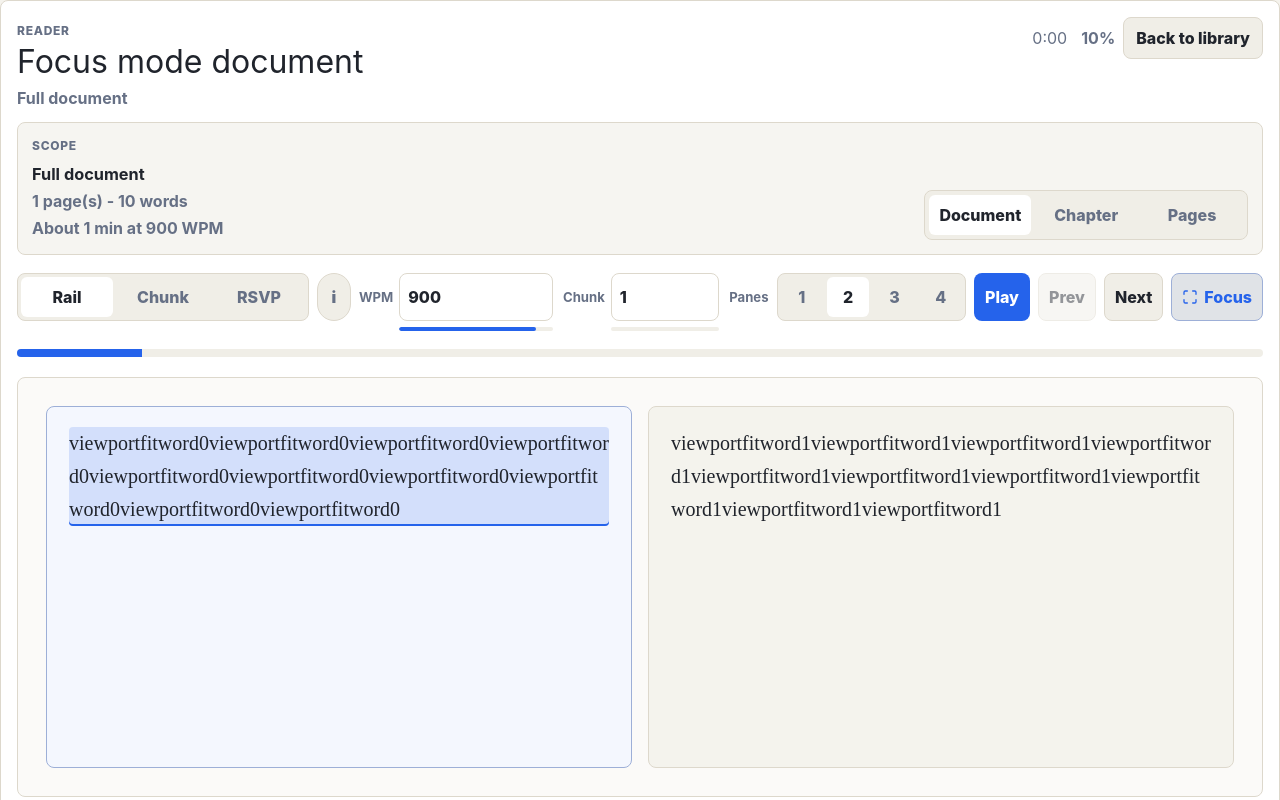
it: ReaderRail focus mode › keeps compact focus layout hooks and reader controls available
Click the button "Focus" at (1217, 297), box [1171,273,1263,321]
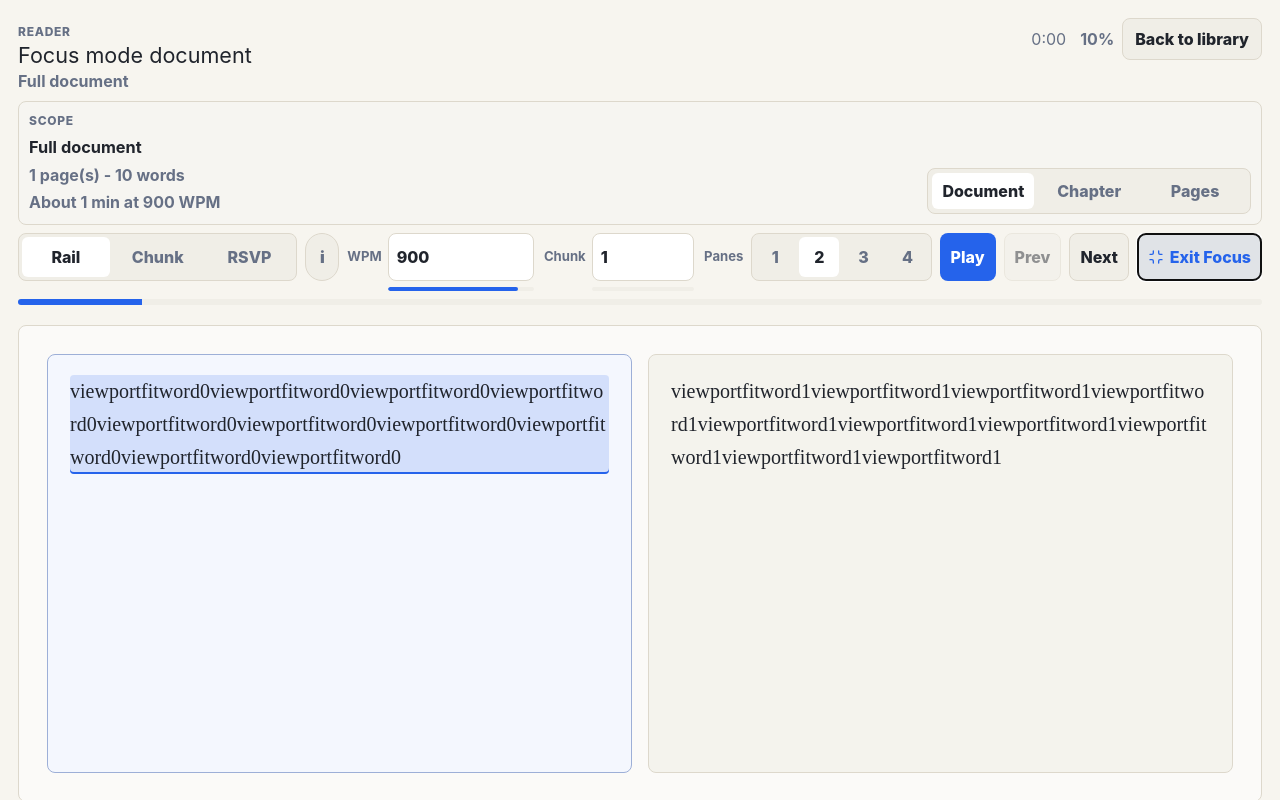
Expected: the button "Play" is shown, [940,233,996,281]
Now the button "Exit Focus" is shown, box [1137,233,1262,281]
